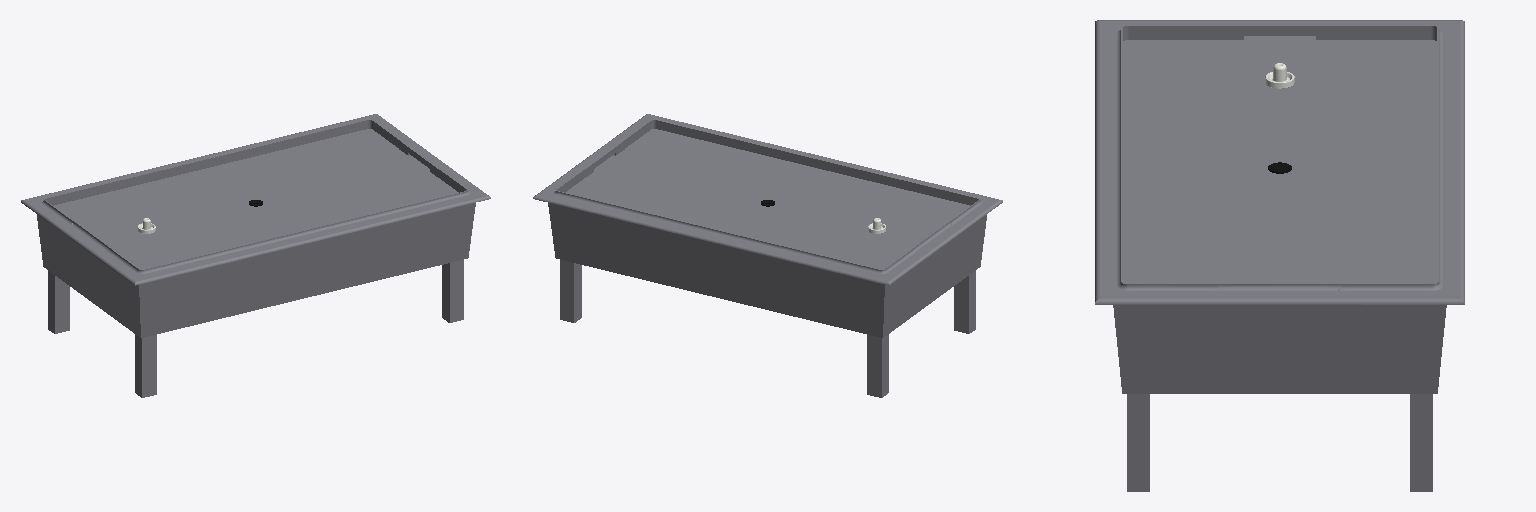
URDF robot description (air_hockey_table):
<?xml version="1.0"?>
<!--
  Air-hockey table, puck and paddle for the hockey-bot project.
  Built 2026-10-15 from Autodesk Fusion designs "Table v7", "Puck v2" and "Paddle v3".
  See README.md for the frame, names, contact settings and how to load it in MuJoCo / mjlab.

  Frame: Z up, origin on the FLOOR at the centre of the table footprint (x along the long axis).
  Units: metres, kilograms. Playing surface at z = 0.739775, bumper-rail top at z = 0.793750 (31.25 in).
  Collision for the table is 15 boxes (MuJoCo convex-hulls mesh colliders, which would fill the tray);
  the visual is the exact Fusion mesh. Puck and paddle use their exact meshes for visuals and
  cylinders for collision. Puck and paddle hang off the table on "floating" joints.
  MuJoCo-specific contact settings (solref, friction, priority) cannot live in URDF; table.xml has them.
-->
<robot name="air_hockey_table">
  <mujoco>
    <compiler balanceinertia="true" discardvisual="false" strippath="false" fusestatic="true"/>
  </mujoco>

  <material name="table_grey"><color rgba="0.55 0.55 0.58 1.0"/></material>
  <material name="puck_black"><color rgba="0.12 0.12 0.12 1.0"/></material>
  <material name="paddle_white"><color rgba="0.92 0.92 0.90 1.0"/></material>

  <!-- Table: fixed to the world (fusestatic). Mass is from Fusion's "Steel" material; irrelevant while fixed. -->
  <link name="table">
    <inertial>
      <origin xyz="0 0 0.592276" rpy="0 0 0"/>
      <mass value="802.825"/>
      <inertia ixx="191.653" iyy="542.491" izz="678.372" ixy="0" ixz="0" iyz="0"/>
    </inertial>
    <visual>
      <origin xyz="0 0 0" rpy="0 0 0"/>
      <geometry><mesh filename="meshes/table.stl" scale="1 1 1"/></geometry>
      <material name="table_grey"/>
    </visual>
    <collision name="deck_apron">
      <origin xyz="0 0 0.558937" rpy="0 0 0"/>
      <geometry><box size="2.1626 1.1474 0.361675"/></geometry>
    </collision>
    <collision name="rail_pos_y">
      <origin xyz="0 0.587 0.761205" rpy="0 0 0"/>
      <geometry><box size="2.1656 0.096 0.06509"/></geometry>
    </collision>
    <collision name="rail_neg_y">
      <origin xyz="0 -0.587 0.761205" rpy="0 0 0"/>
      <geometry><box size="2.1656 0.096 0.06509"/></geometry>
    </collision>
    <collision name="endrail_pos_x_pos_y">
      <origin xyz="1.0638 0.3314 0.761205" rpy="0 0 0"/>
      <geometry><box size="0.038 0.4152 0.06509"/></geometry>
    </collision>
    <collision name="endrail_pos_x_neg_y">
      <origin xyz="1.0638 -0.3314 0.761205" rpy="0 0 0"/>
      <geometry><box size="0.038 0.4152 0.06509"/></geometry>
    </collision>
    <collision name="goal_lintel_pos_x">
      <origin xyz="1.0638 0 0.775495" rpy="0 0 0"/>
      <geometry><box size="0.038 0.2476 0.03651"/></geometry>
    </collision>
    <collision name="rim_pos_x">
      <origin xyz="1.1129 0 0.7669" rpy="0 0 0"/>
      <geometry><box size="0.0602 1.27 0.0156"/></geometry>
    </collision>
    <collision name="endrail_neg_x_pos_y">
      <origin xyz="-1.0638 0.3314 0.761205" rpy="0 0 0"/>
      <geometry><box size="0.038 0.4152 0.06509"/></geometry>
    </collision>
    <collision name="endrail_neg_x_neg_y">
      <origin xyz="-1.0638 -0.3314 0.761205" rpy="0 0 0"/>
      <geometry><box size="0.038 0.4152 0.06509"/></geometry>
    </collision>
    <collision name="goal_lintel_neg_x">
      <origin xyz="-1.0638 0 0.775495" rpy="0 0 0"/>
      <geometry><box size="0.038 0.2476 0.03651"/></geometry>
    </collision>
    <collision name="rim_neg_x">
      <origin xyz="-1.1129 0 0.7669" rpy="0 0 0"/>
      <geometry><box size="0.0602 1.27 0.0156"/></geometry>
    </collision>
    <collision name="leg_pos_x_pos_y">
      <origin xyz="0.98525 0.4852 0.18905" rpy="0 0 0"/>
      <geometry><box size="0.0953 0.0794 0.3781"/></geometry>
    </collision>
    <collision name="leg_pos_x_neg_y">
      <origin xyz="0.98525 -0.4852 0.18905" rpy="0 0 0"/>
      <geometry><box size="0.0953 0.0794 0.3781"/></geometry>
    </collision>
    <collision name="leg_neg_x_pos_y">
      <origin xyz="-0.98525 0.4852 0.18905" rpy="0 0 0"/>
      <geometry><box size="0.0953 0.0794 0.3781"/></geometry>
    </collision>
    <collision name="leg_neg_x_neg_y">
      <origin xyz="-0.98525 -0.4852 0.18905" rpy="0 0 0"/>
      <geometry><box size="0.0953 0.0794 0.3781"/></geometry>
    </collision>
  </link>

  <!-- Puck v2: 80.8 mm dia x 6.35 mm, ABS, measured from the real puck. Link origin = centre of the bottom face. -->
  <link name="puck">
    <inertial>
      <origin xyz="0 0 0.003175" rpy="0 0 0"/>
      <mass value="0.034"/>
      <inertia ixx="1.41874e-05" iyy="1.41874e-05" izz="2.81749e-05" ixy="0" ixz="0" iyz="0"/>
    </inertial>
    <visual>
      <geometry><mesh filename="meshes/puck.stl" scale="1 1 1"/></geometry>
      <material name="puck_black"/>
    </visual>
    <collision name="puck_col">
      <origin xyz="0 0 0.003175" rpy="0 0 0"/>
      <geometry><cylinder radius="0.04041" length="0.00635"/></geometry>
    </collision>
  </link>
  <joint name="puck_free" type="floating">
    <parent link="table"/>
    <child link="puck"/>
    <origin xyz="0 0 0.739775" rpy="0 0 0"/>
  </joint>

  <!-- Paddle v3: 100.6 mm base, 45.7 mm grip, 68.6 mm tall, ABS, measured from the real paddle.
       Link origin = centre of the bottom face; the grip axis is +z. Collision = lip cylinder + grip cylinder.
       To put it on a robot, replace paddle_free with a fixed joint from the end-effector link. -->
  <link name="paddle">
    <inertial>
      <origin xyz="0 0 0.0222922" rpy="0 0 0"/>
      <mass value="0.217098"/>
      <inertia ixx="0.000179454" iyy="0.000179454" izz="0.000210366" ixy="0" ixz="0" iyz="0"/>
    </inertial>
    <visual>
      <geometry><mesh filename="meshes/paddle.stl" scale="1 1 1"/></geometry>
      <material name="paddle_white"/>
    </visual>
    <collision name="paddle_base_col">
      <origin xyz="0 0 0.01143" rpy="0 0 0"/>
      <geometry><cylinder radius="0.05032" length="0.02286"/></geometry>
    </collision>
    <collision name="paddle_grip_col">
      <origin xyz="0 0 0.04572" rpy="0 0 0"/>
      <geometry><cylinder radius="0.02286" length="0.04572"/></geometry>
    </collision>
  </link>
  <joint name="paddle_free" type="floating">
    <parent link="table"/>
    <child link="paddle"/>
    <origin xyz="-0.70 0 0.739775" rpy="0 0 0"/>
  </joint>
</robot>

--- Facts derived from the render (not from the file) ---
3 views of the same robot in one strip: view 1: azimuth 30°, elevation 25°; view 2: azimuth 150°, elevation 25°; view 3: azimuth 270°, elevation 25° (orthographic).
Robot: air_hockey_table — 3 links, 2 joints (2 floating); root link table; default pose: all joints at 0.
Links seen in each view (by area): view 1: table; view 2: table; view 3: table, paddle.
Link boxes in pixels (x1,y1,x2,y2): table: (21,114,490,397); table: (533,114,1002,397); table: (1095,20,1464,491); paddle: (1265,63,1294,88).
Bounding box of the posed robot: 2.29 × 1.27 × 0.8084 m (x, y, z).
Meshes: 3 distinct files referenced, 3 mesh visuals loaded (3 binary STL).
